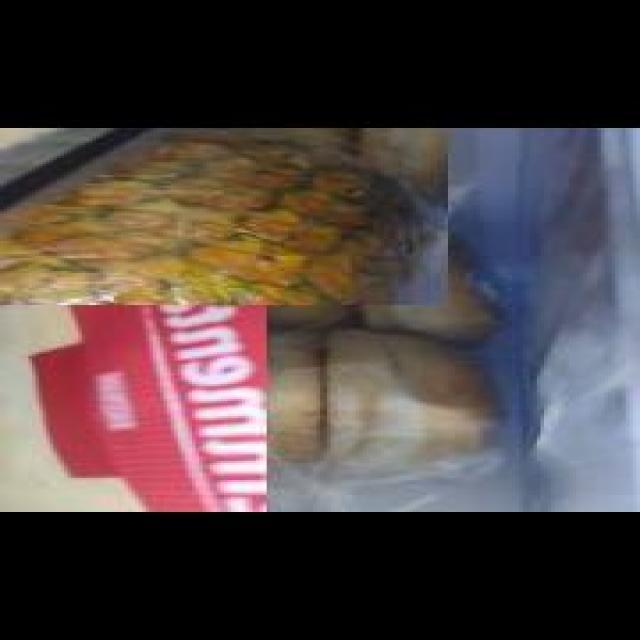cheese: (0, 128, 263, 512)
pineapple: (0, 128, 444, 305)
